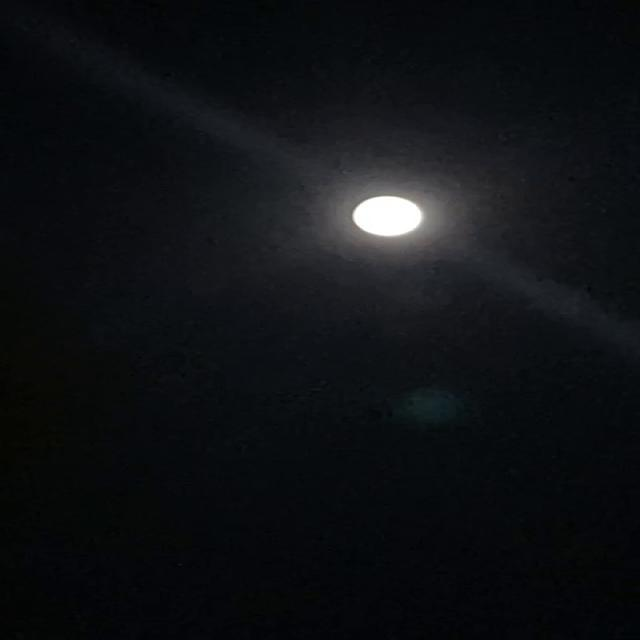moon: (330, 190, 446, 248)
